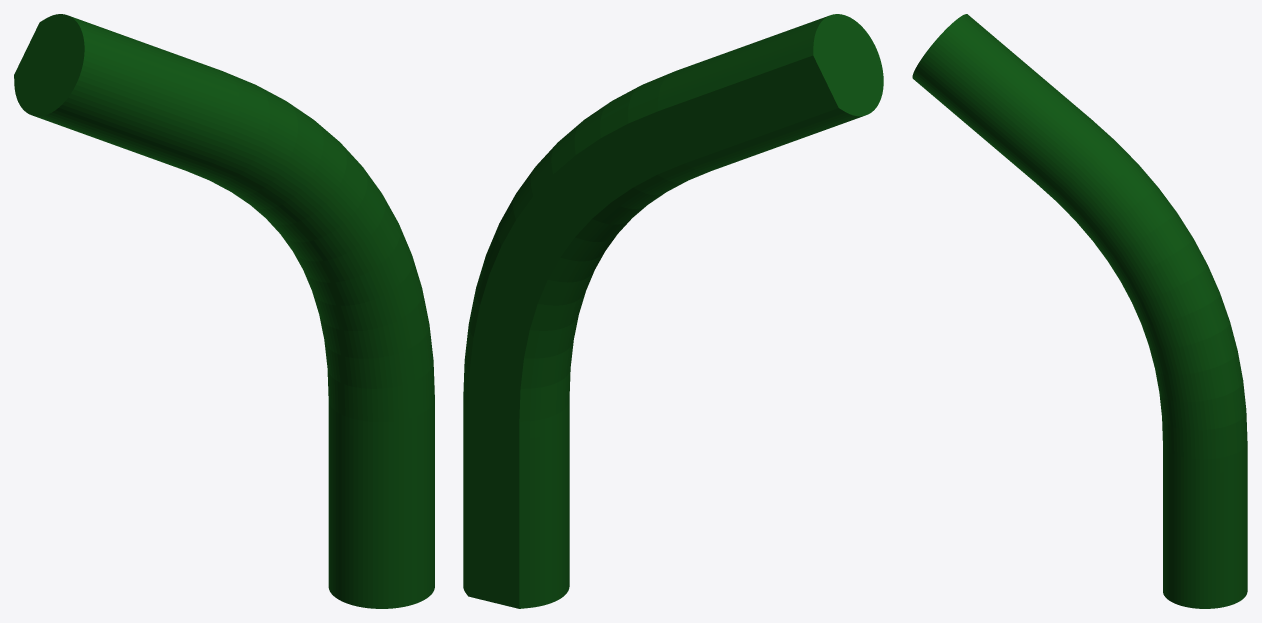
File: stem_1B_60_L.glb
3 renders of one model, left to right at view 1: azimuth 30°, elevation 25°; view 2: azimuth 150°, elevation 25°; view 3: azimuth 330°, elevation 25°, orthographic. The views are drawn at different scales.
Visible parts, largest first — view 1: stem_1B_60L; view 2: stem_1B_60L; view 3: stem_1B_60L.
Boxes of the visible parts, x1,y1,x2,y2 form: stem_1B_60L: [14, 14, 434, 608]; stem_1B_60L: [463, 14, 883, 608]; stem_1B_60L: [912, 14, 1247, 608].
Size of the model in its own units: 0.0314 by 0.0481 by 0.00666.
